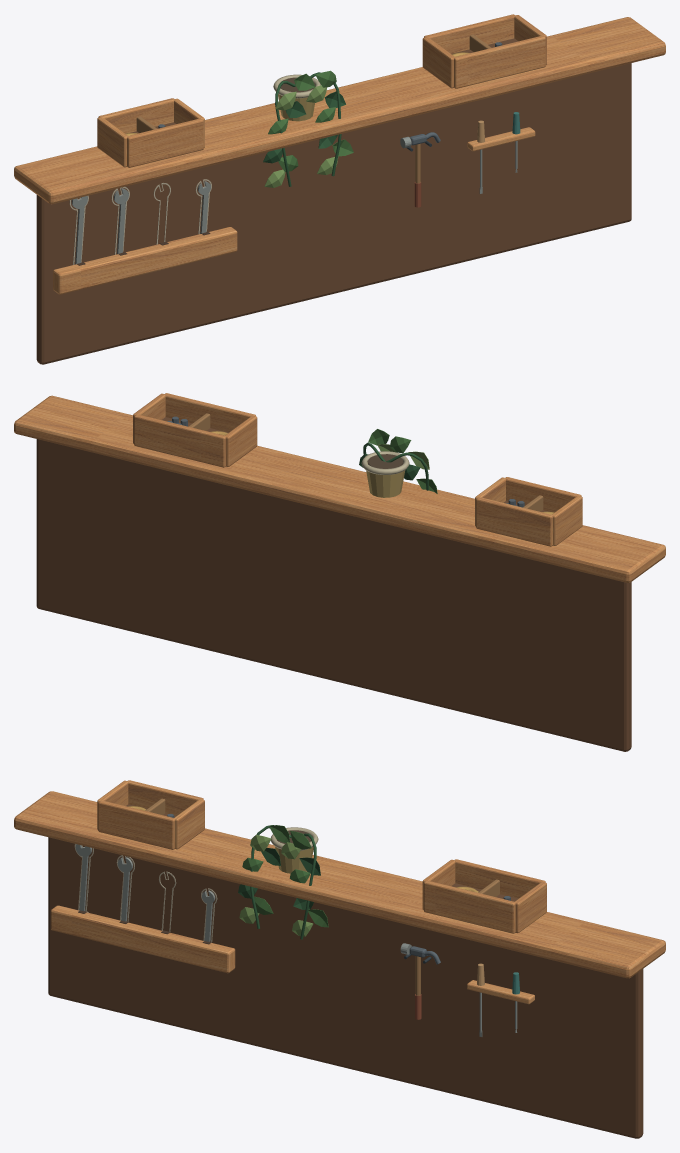
3 views of the same model, one above another, from view 1: azimuth 30°, elevation 25°; view 2: azimuth 150°, elevation 25°; view 3: azimuth 330°, elevation 25° (orthographic).
Visible parts, largest first — view 1: workshop_wood_dark, workshop_oak, workshop_steel_light, workshop_leaf_dark, workshop_leaf, workshop_leaf_light, workshop_linen_shade, workshop_wood; view 2: workshop_wood_dark, workshop_oak, workshop_ochre, workshop_leaf, workshop_leaf_dark; view 3: workshop_wood_dark, workshop_oak, workshop_steel_light, workshop_leaf, workshop_leaf_dark, workshop_linen_shade, workshop_leaf_light, workshop_wood.
Boxes of the visible parts, bbox=[...] form: workshop_wood_dark: bbox=[36, 38, 631, 364]; workshop_oak: bbox=[14, 14, 665, 294]; workshop_steel_light: bbox=[71, 136, 517, 264]; workshop_leaf_dark: bbox=[263, 72, 345, 186]; workshop_leaf: bbox=[268, 70, 353, 171]; workshop_leaf_light: bbox=[264, 85, 338, 187]; workshop_linen_shade: bbox=[69, 179, 211, 264]; workshop_wood: bbox=[136, 34, 491, 183]; workshop_wood_dark: bbox=[36, 417, 631, 751]; workshop_oak: bbox=[14, 393, 665, 582]; workshop_ochre: bbox=[366, 462, 405, 497]; workshop_leaf: bbox=[368, 429, 437, 493]; workshop_leaf_dark: bbox=[359, 442, 428, 490]; workshop_wood_dark: bbox=[48, 804, 643, 1138]; workshop_oak: bbox=[14, 780, 665, 1004]; workshop_steel_light: bbox=[75, 844, 517, 1036]; workshop_leaf: bbox=[242, 825, 328, 927]; workshop_leaf_dark: bbox=[238, 825, 320, 939]; workshop_linen_shade: bbox=[74, 844, 217, 942]; workshop_leaf_light: bbox=[239, 834, 313, 936]; workshop_wood: bbox=[145, 798, 499, 995].
Size of the model in its own units: 4.9 by 1.83 by 0.52.
Materials: 18 (1 with a texture image).
